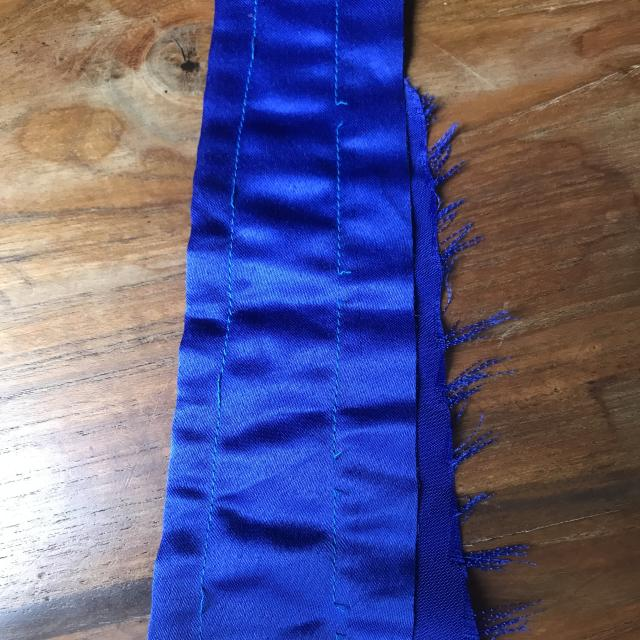broken: (324, 84, 360, 142)
